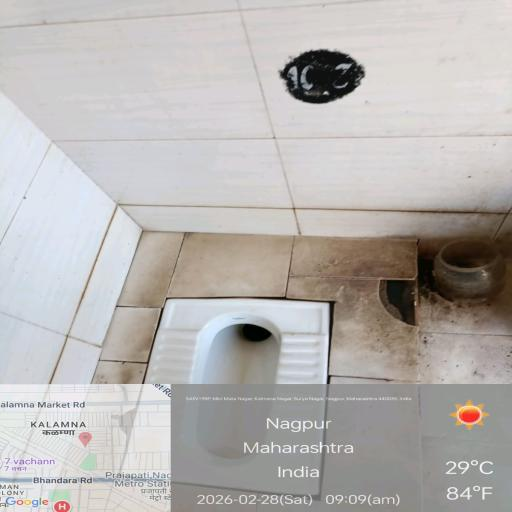clean_floor: (32, 15, 502, 266)
clean_indian: (117, 305, 388, 512)
partial_dirty_floor: (45, 220, 512, 512)
